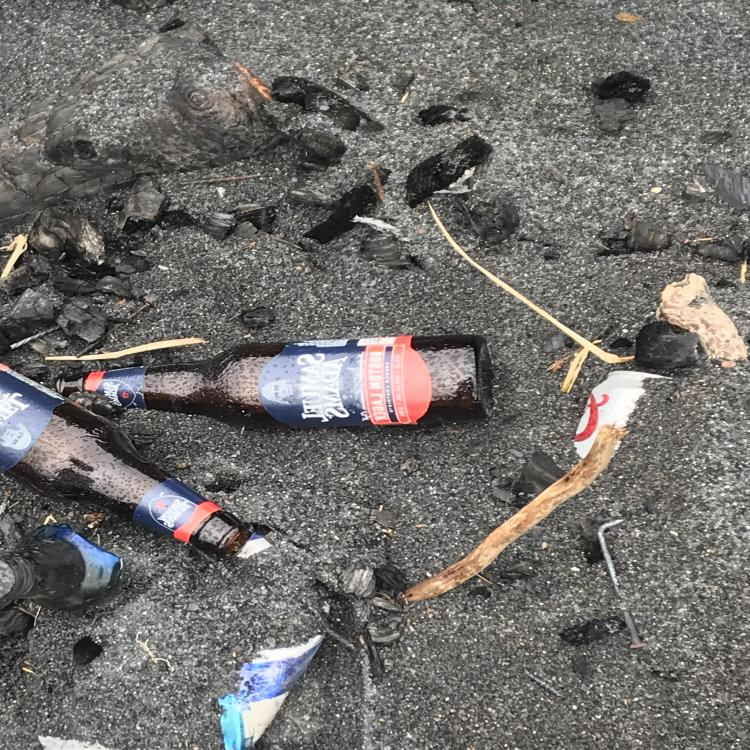Drink can: (573, 371, 672, 459)
Glass bottle: (1, 362, 253, 560), (54, 334, 494, 428), (0, 521, 124, 612)
Unlabeled litter: (218, 532, 327, 750)
